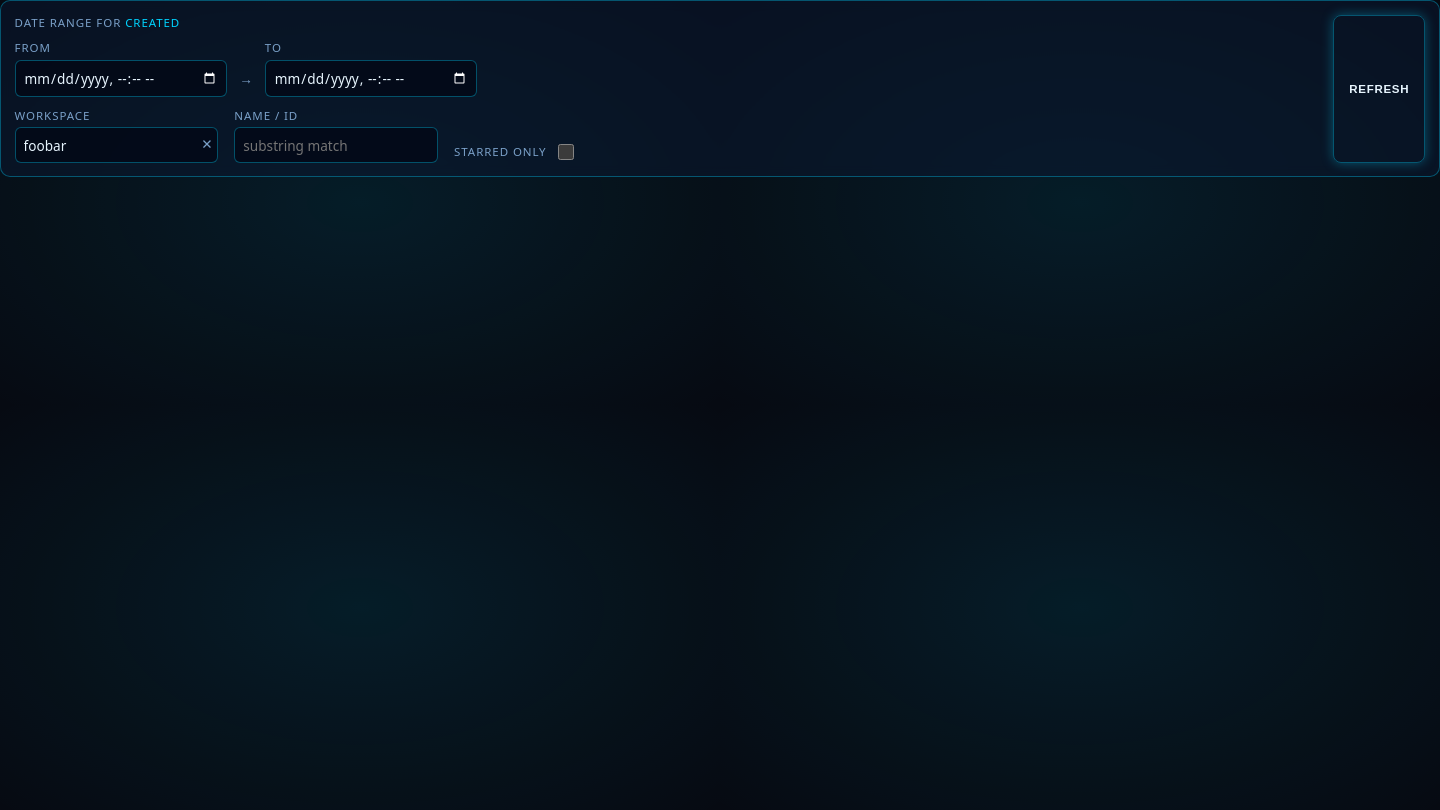
SessionFilterBar › clears workspace input and keeps Refresh enabled when still dirty vs applied
Expected: the button with aria-label "Refresh session list with current filters" is enabled, [1333,15,1426,163]
Click the button named "Clear" at (207, 145), box [201,138,213,152]
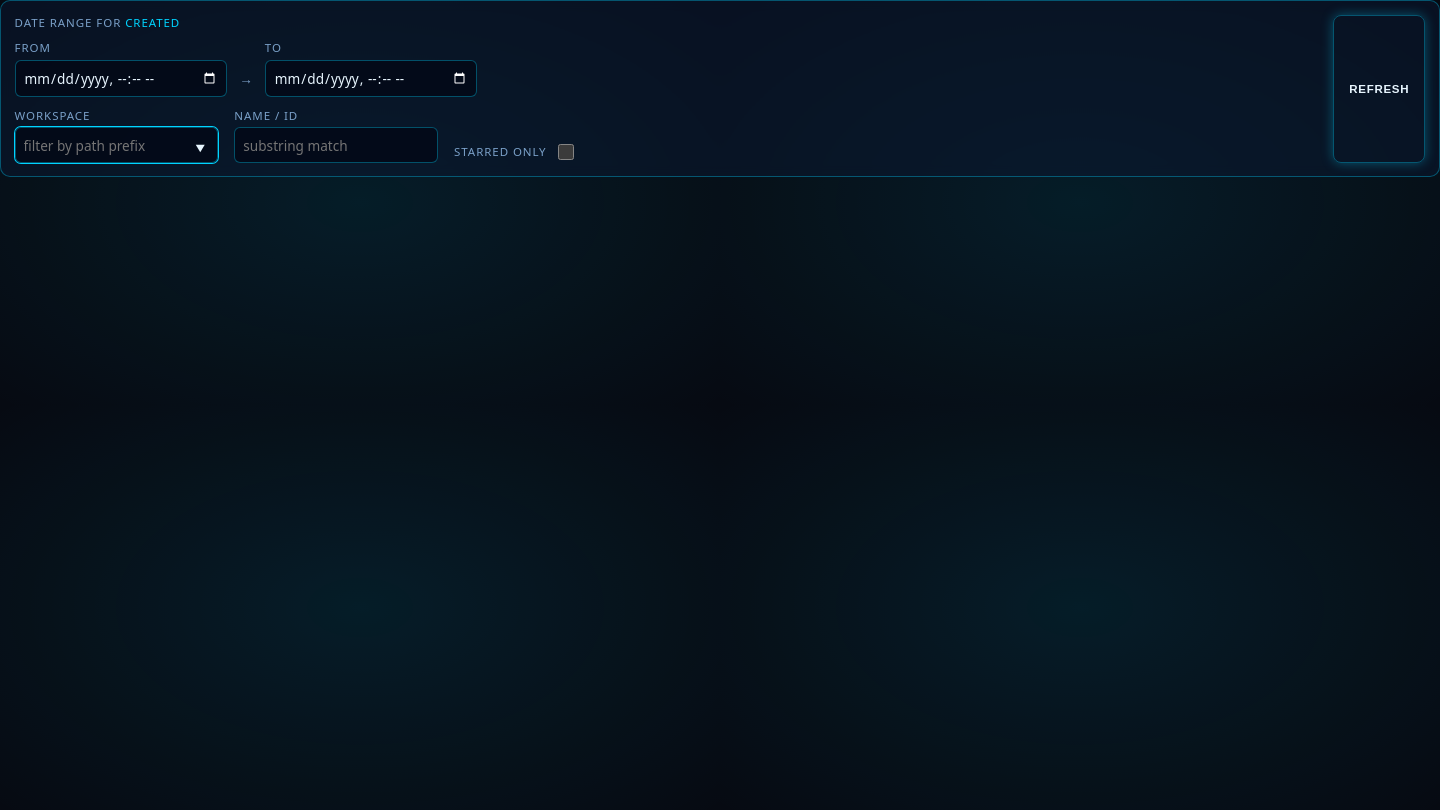
Expected: the button with aria-label "Refresh session list with current filters" is enabled, [1333,15,1426,163]
Now the field labelled "Workspace" is empty, box [15,127,218,163]
